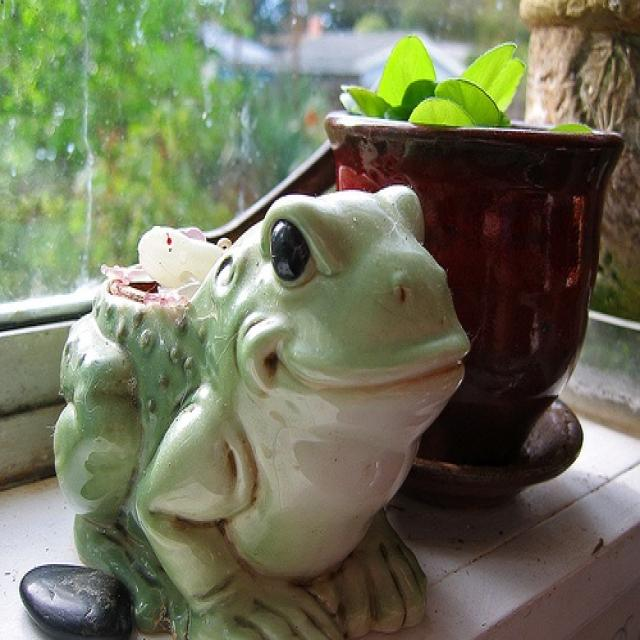pottedplant: (322, 32, 626, 510)
